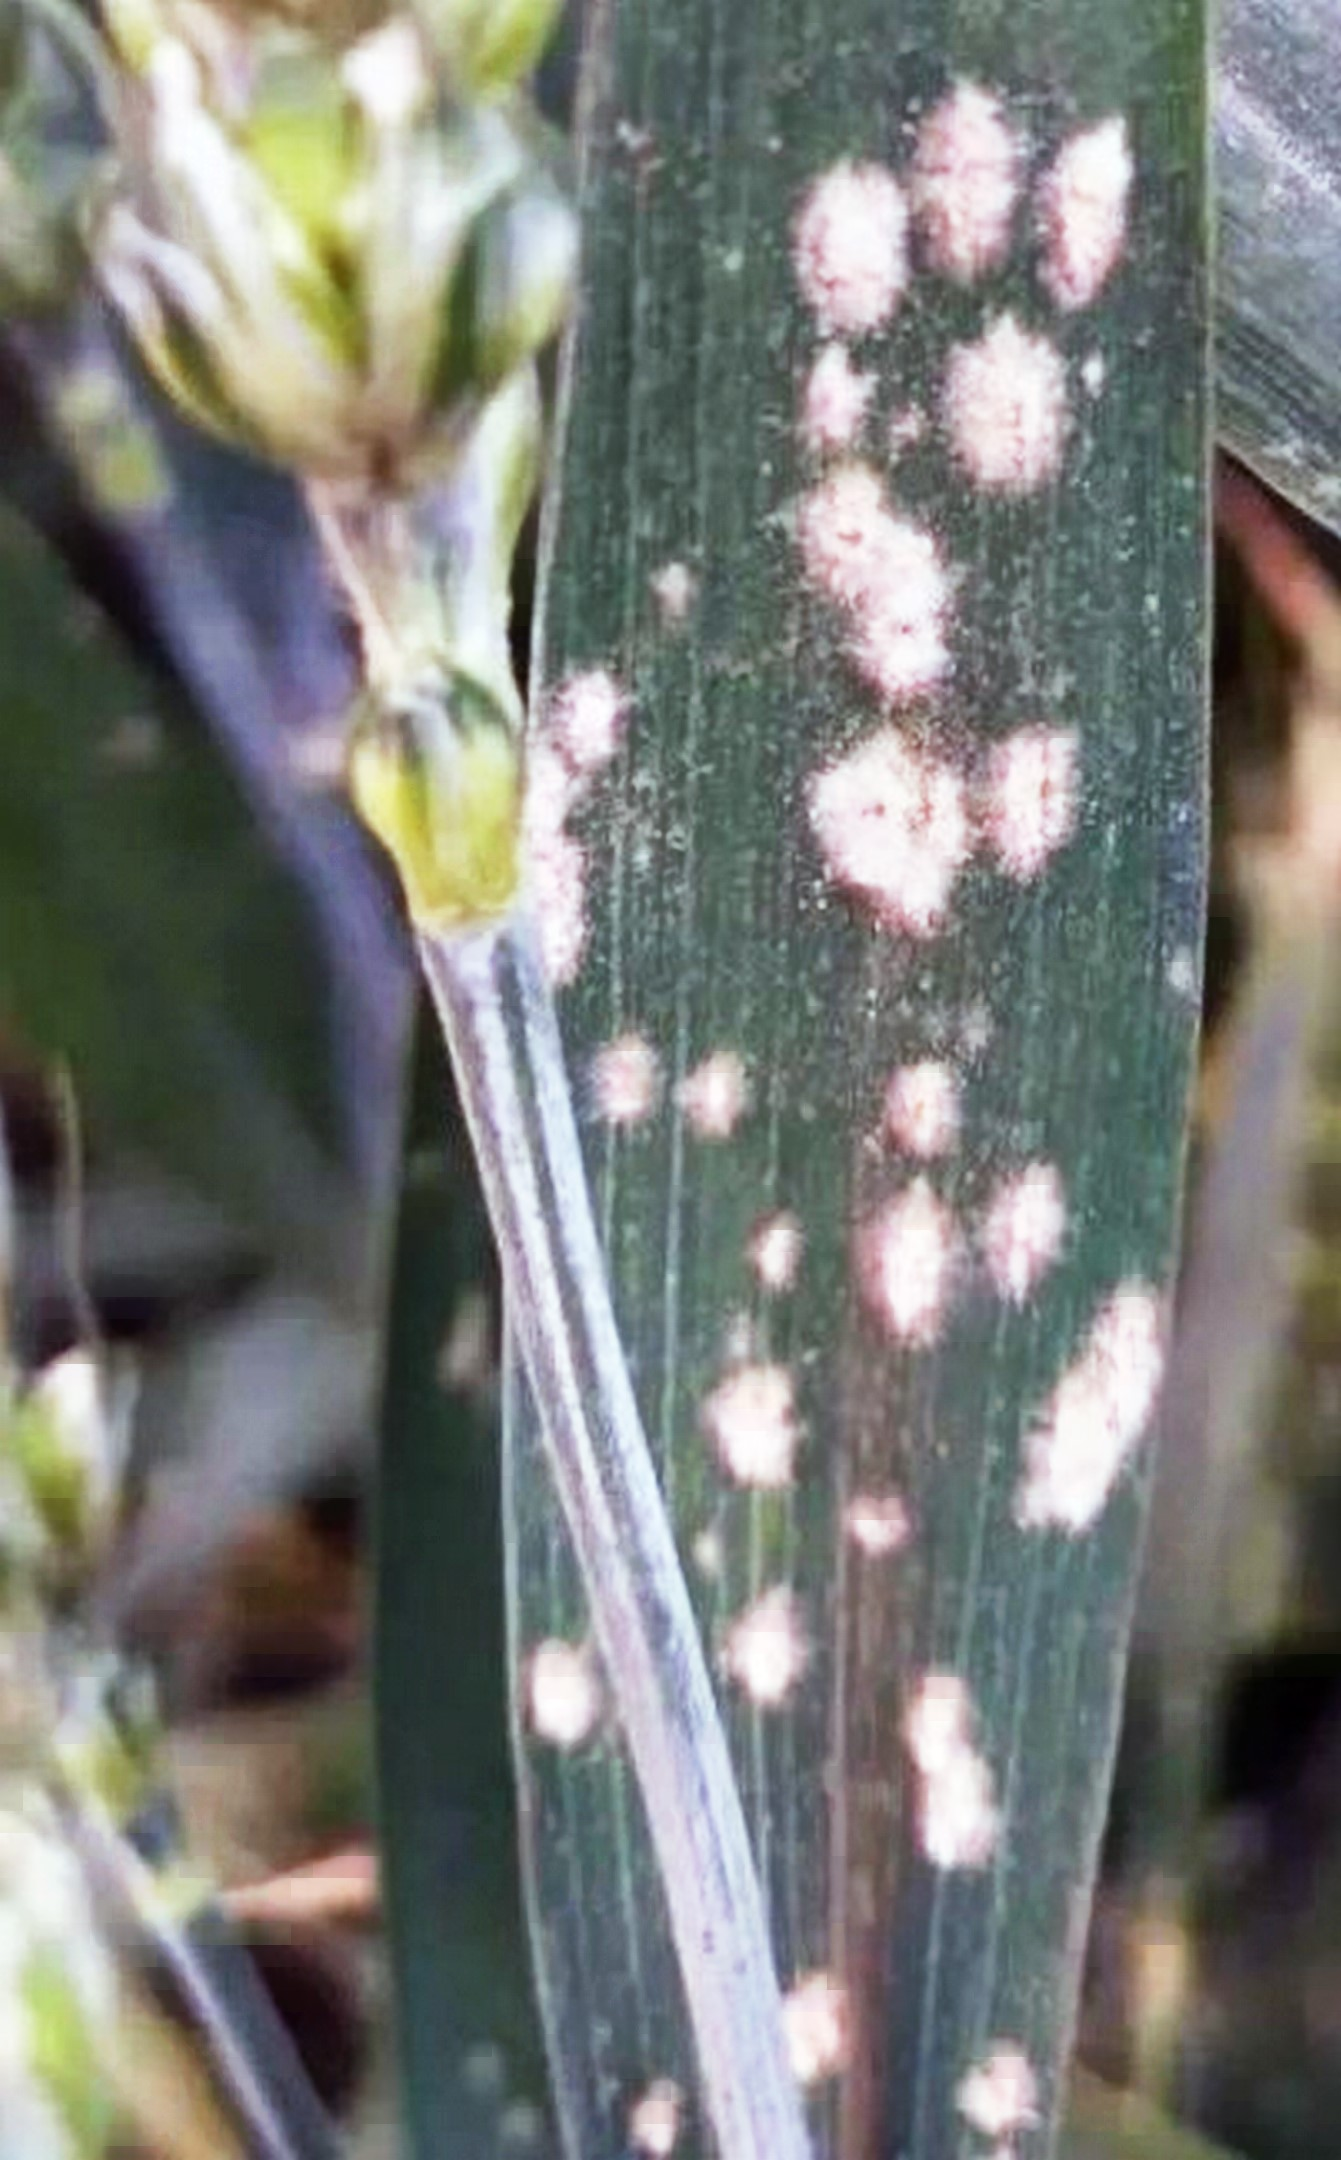Powdery Mildew: (484, 87, 1200, 2083)
